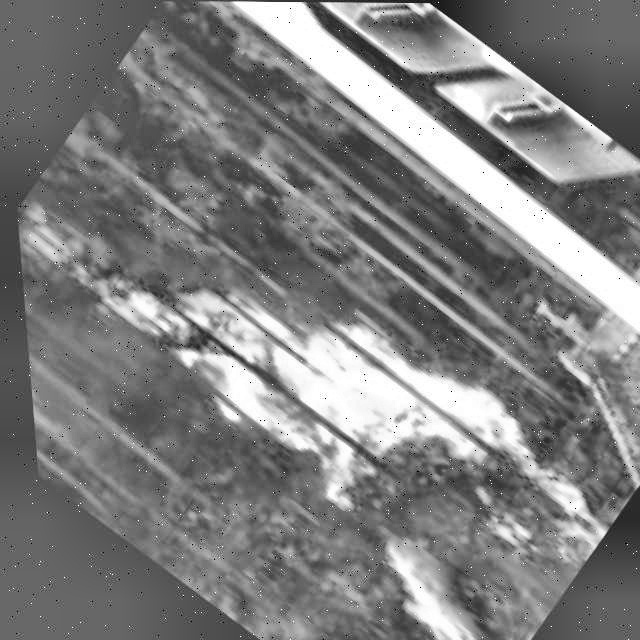Fire: (14, 164, 628, 640)
